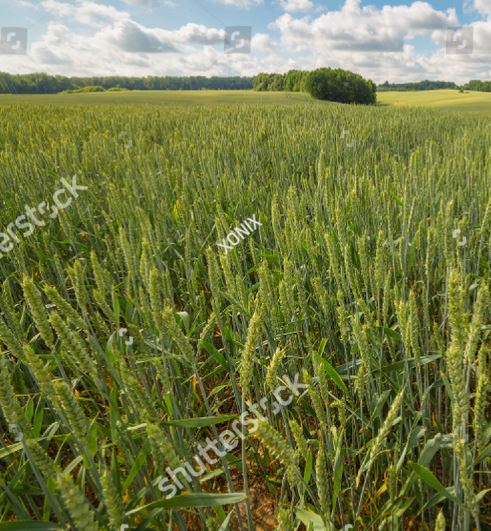Wheat: (46, 223, 484, 445)
